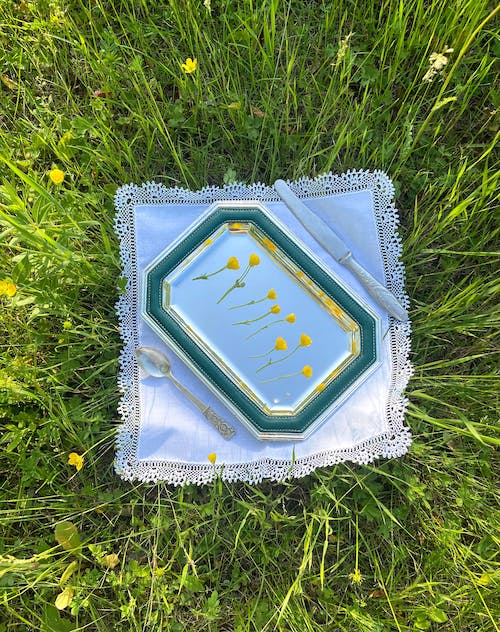knife: (273, 176, 409, 325)
